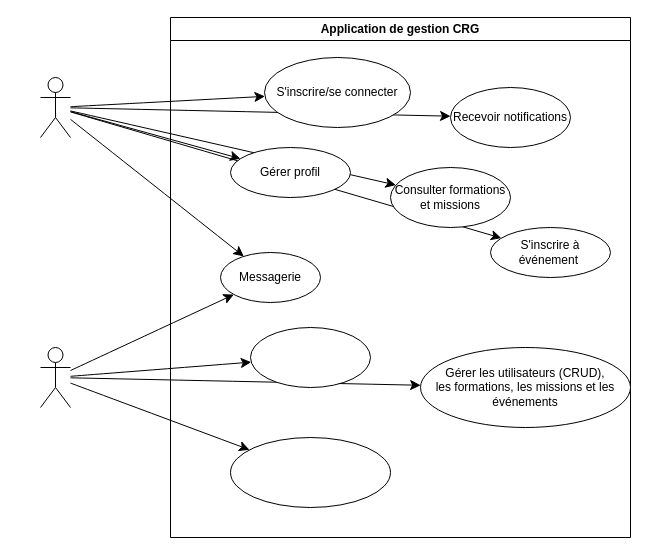
Image size: 648x555. Some labels were removed from this diagram. Each missing label, with the centre of its shape:
Administrateur: (55,377)
Consulter les statistiques: (310,357)
Envoyer les notifications: (310,472)
Volantaire: (55,107)
